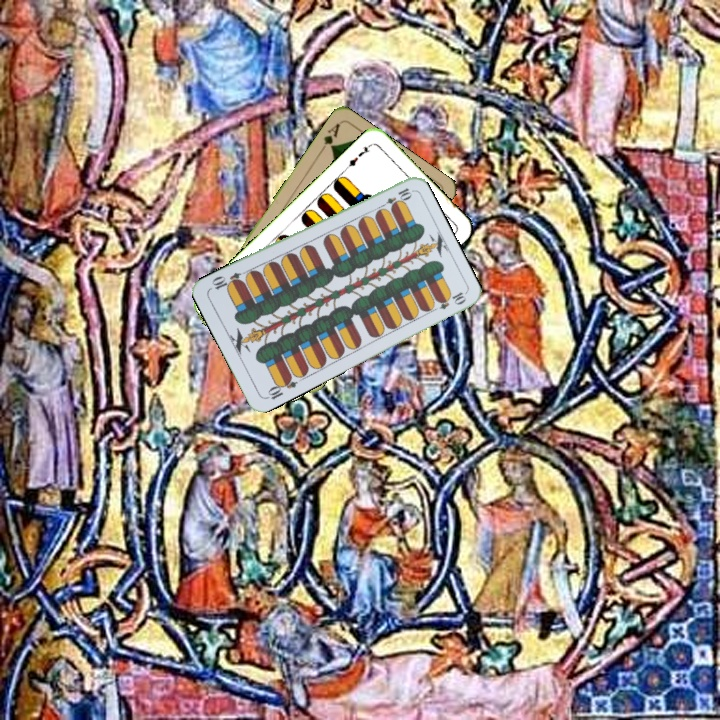E10: (262, 372, 300, 402), (376, 184, 414, 212)
E7: (342, 140, 374, 172)
GA: (316, 119, 343, 156)
